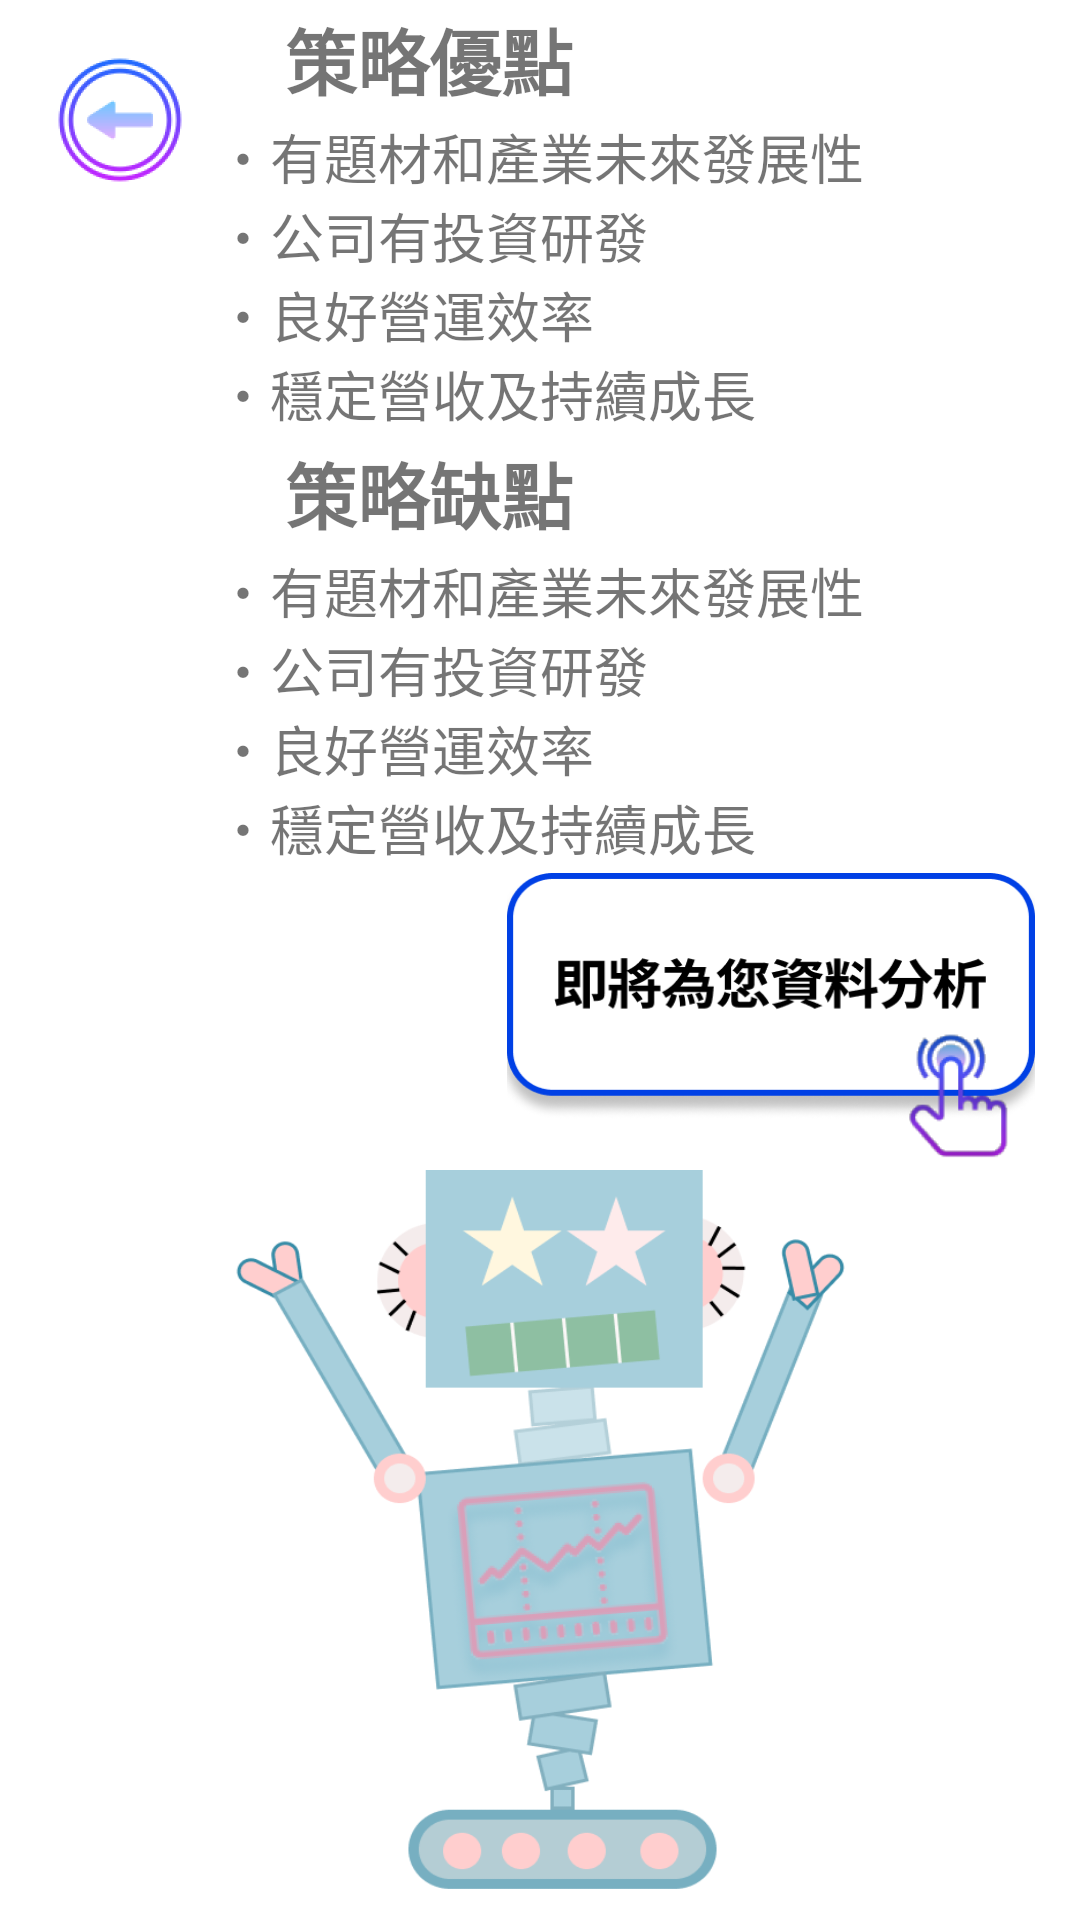

Screen size 1080 x 1920. Icon name, then its box in pixels as [x1=x1, y1=y1, x2=x2, y2=y2]:
back arrow: [x1=58, y1=58, x2=182, y2=182]
